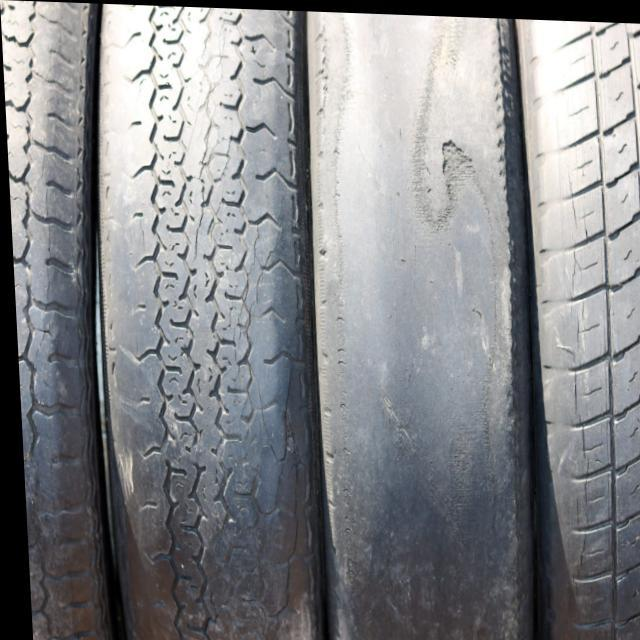Flat spots: (307, 26, 508, 590), (105, 0, 182, 532)
Non-defective: (6, 0, 70, 400)
